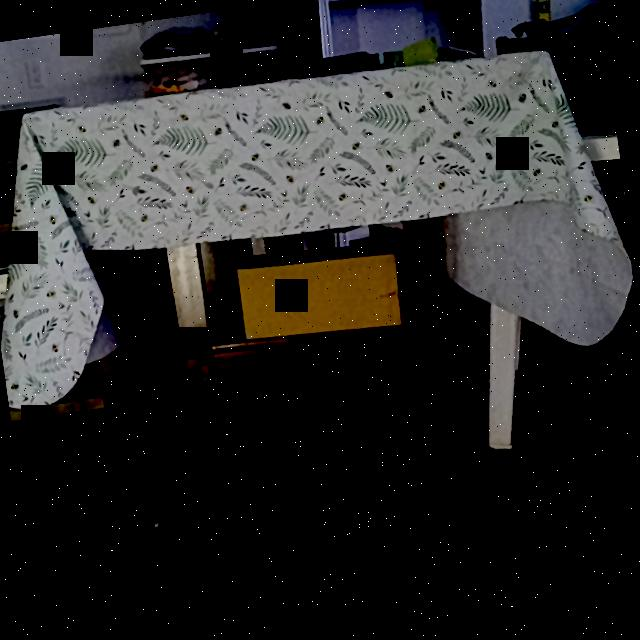box: (237, 252, 403, 342)
